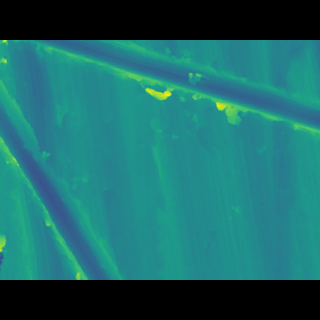Loch: (23, 66, 320, 140), (0, 99, 129, 252)
